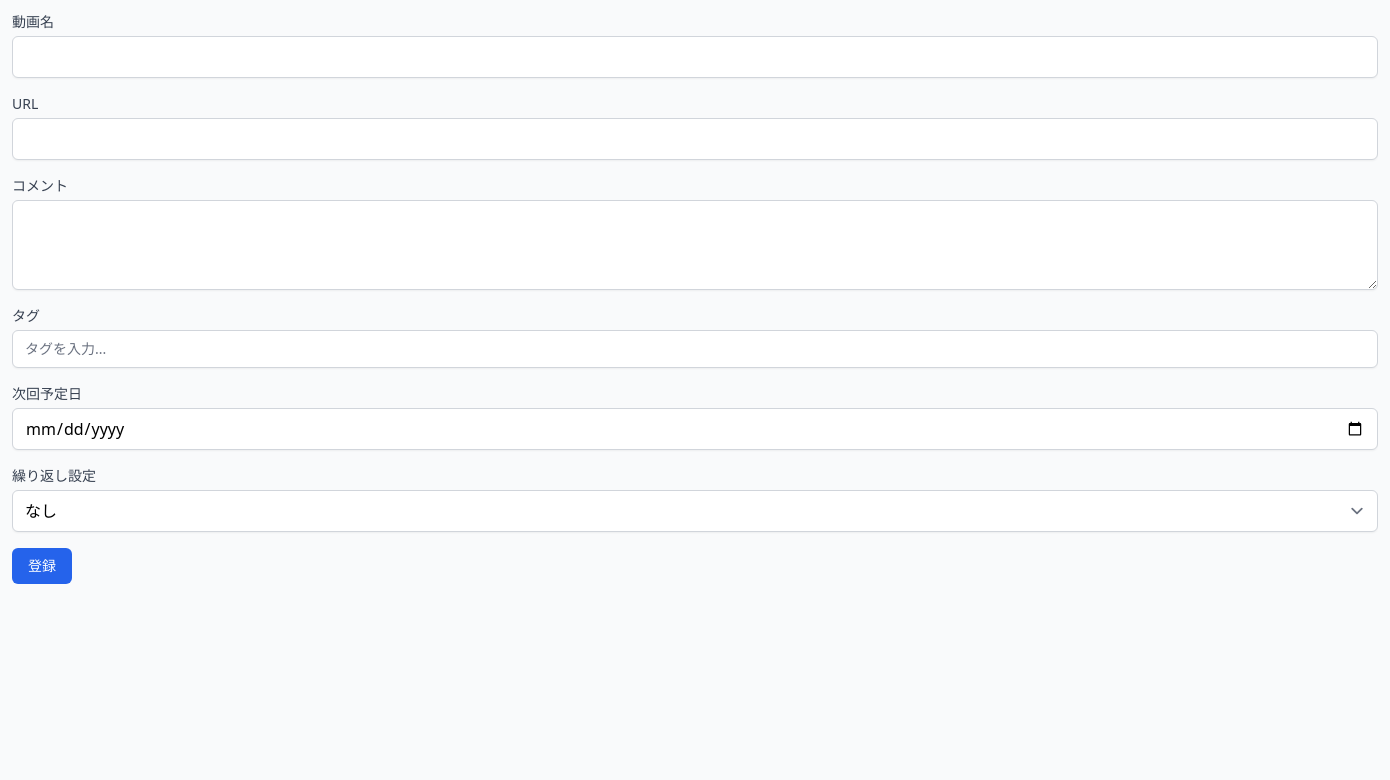
Test: recurrence settings › shows interval days input when INTERVAL selected
Select "間隔指定" in the dropdown at (695, 511), box [12,490,1378,532]
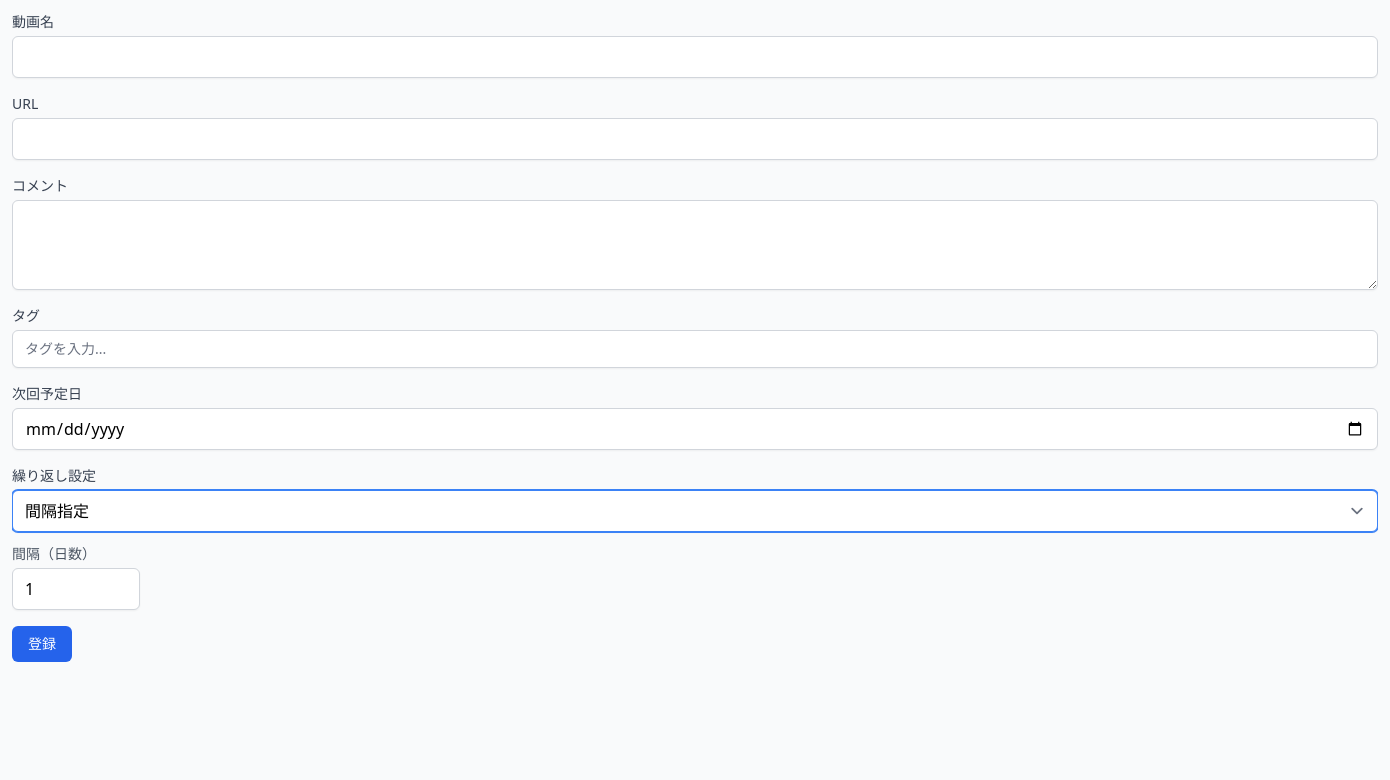
Now the number field is shown, box [12,568,140,610]
